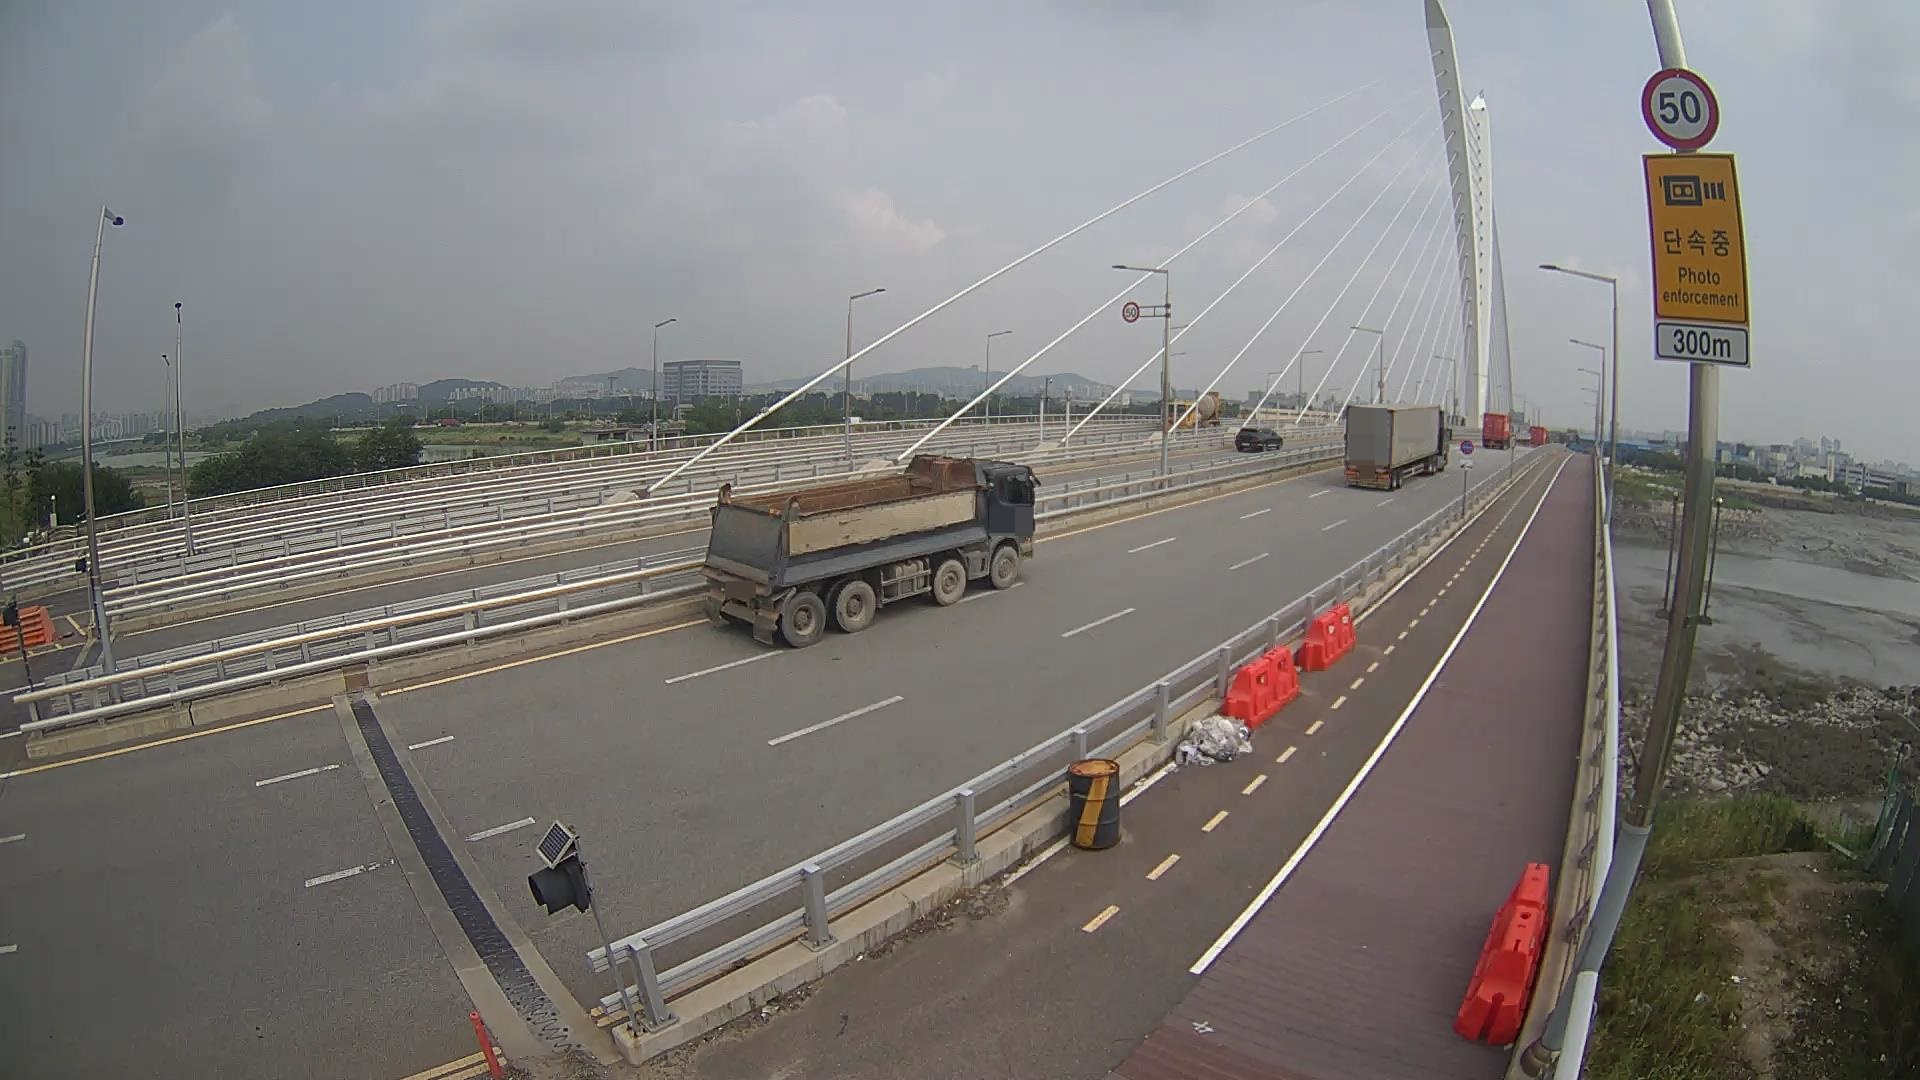정상차량: (698, 453, 1042, 649)
